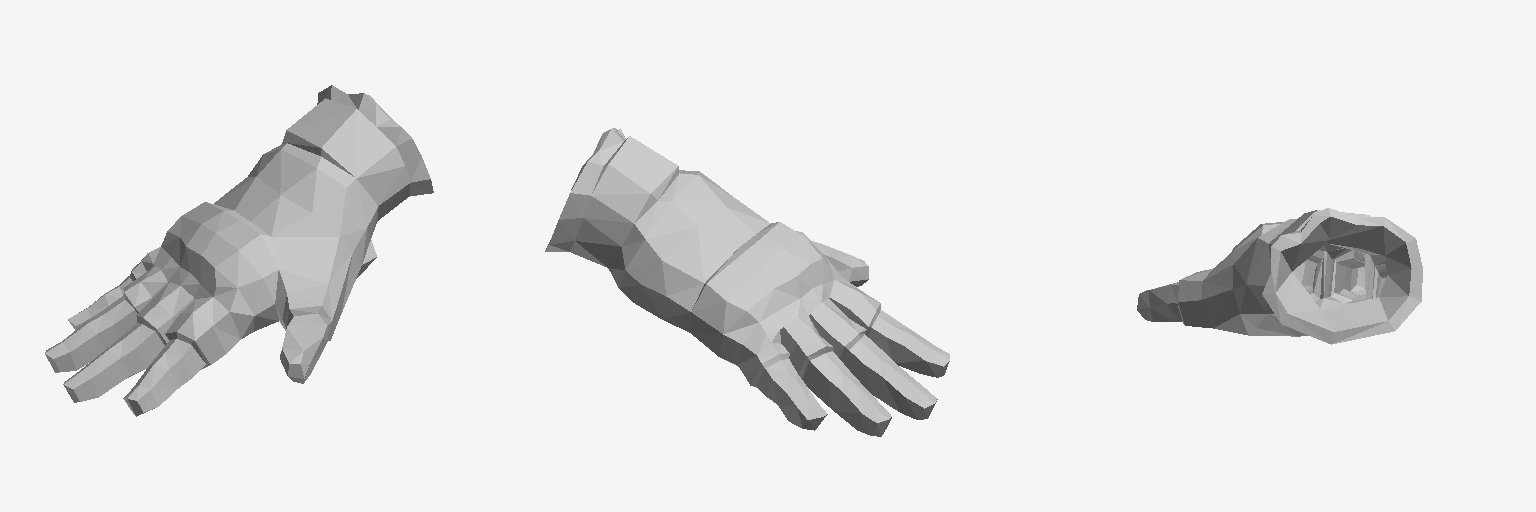
File: hg_hand.obj
3 renders of one model, left to right at view 1: azimuth 30°, elevation 25°; view 2: azimuth 150°, elevation 25°; view 3: azimuth 270°, elevation 25°, orthographic.
Visible parts, largest first — view 1: studio.helghast_assault_medium.smd.mesh_0.004; view 2: studio.helghast_assault_medium.smd.mesh_0.004; view 3: studio.helghast_assault_medium.smd.mesh_0.004.
Part boxes in pixels (bbox=[...]): studio.helghast_assault_medium.smd.mesh_0.004: bbox=[45, 85, 433, 416]; studio.helghast_assault_medium.smd.mesh_0.004: bbox=[545, 128, 949, 436]; studio.helghast_assault_medium.smd.mesh_0.004: bbox=[1137, 208, 1422, 344].
Size of the model in its own units: 10.32 by 6.2 by 7.11.